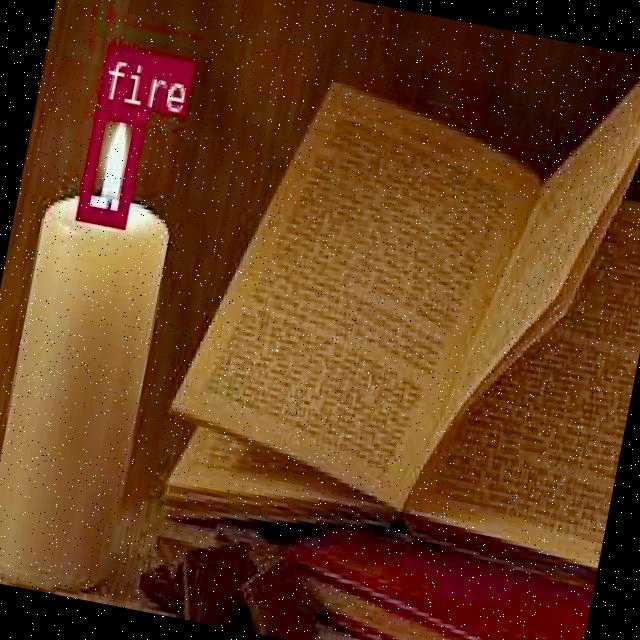fire: (74, 98, 145, 225)
